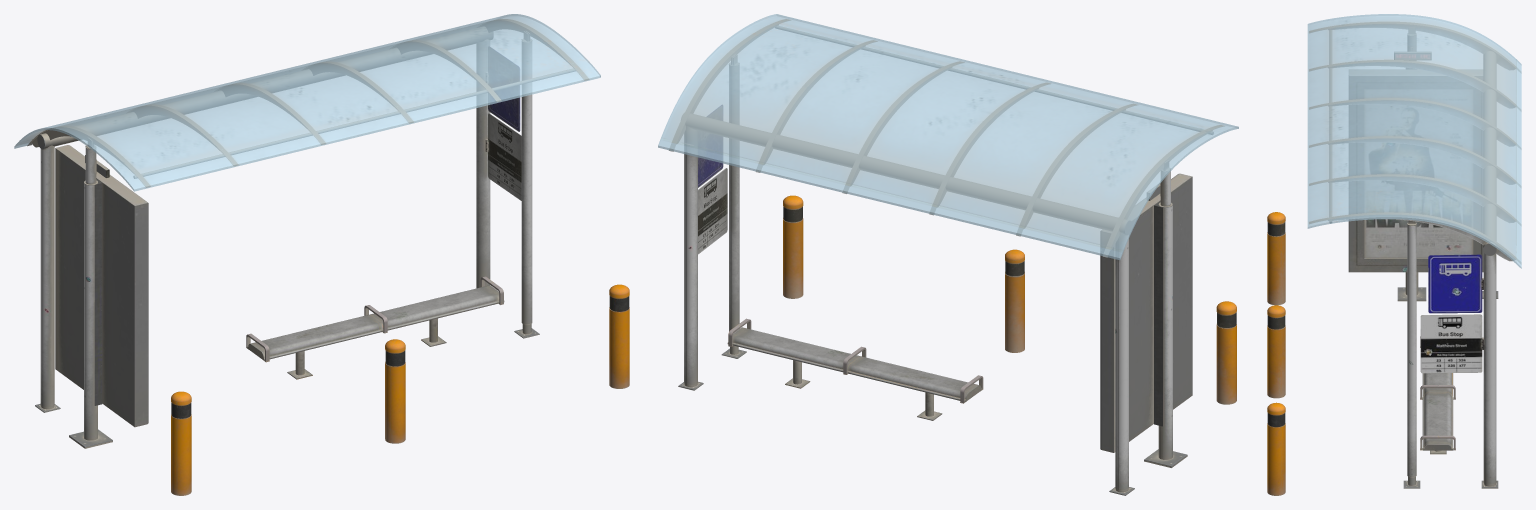
File: standard_bus_stop.glb
The picture shows the model from 3 angles, left to right: view 1: azimuth 30°, elevation 25°; view 2: azimuth 150°, elevation 25°; view 3: azimuth 270°, elevation 25°; orthographic projection. The views are drawn at different scales.
Parts seen in each view (by area): view 1: Bustop_roof_1, Bustop_posters_3, Busstop_legs_0, Bustop_Bench_2, Bustop_roof.001_4; view 2: Bustop_roof_1, Bustop_posters_3, Busstop_legs_0, Bustop_Bench_2, Bustop_roof.001_4; view 3: Bustop_roof_1, Bustop_posters_3, Bustop_roof.001_4, Bustop_Bench_2, Busstop_legs_0.
Boxes of the visible parts, x1,y1,x2,y2 form: Bustop_roof_1: [14, 14, 600, 191]; Bustop_posters_3: [55, 46, 521, 427]; Busstop_legs_0: [35, 31, 539, 448]; Bustop_Bench_2: [171, 276, 629, 495]; Bustop_roof.001_4: [27, 19, 588, 187]; Bustop_roof_1: [658, 14, 1238, 260]; Bustop_posters_3: [698, 105, 1192, 452]; Busstop_legs_0: [678, 54, 1187, 495]; Bustop_Bench_2: [727, 195, 1236, 420]; Bustop_roof.001_4: [669, 19, 1223, 257]; Bustop_roof_1: [1307, 14, 1521, 268]; Bustop_posters_3: [1348, 52, 1484, 373]; Bustop_roof.001_4: [1309, 22, 1521, 263]; Bustop_Bench_2: [1267, 212, 1455, 495]; Busstop_legs_0: [1397, 27, 1498, 488].
Size of the model in its own units: 4.84 by 2.99 by 2.51.
4 materials, 4 textured.
